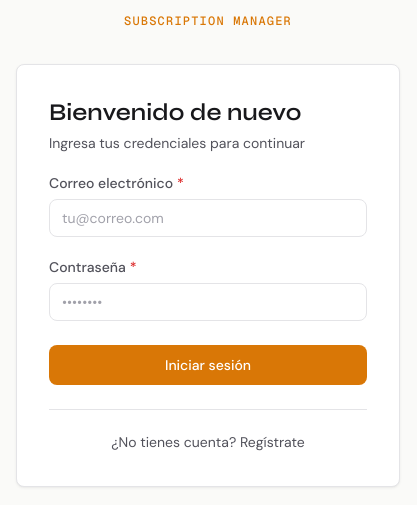
LoginPage › toggles to register mode
What coordinates should you click on to do the following:
click the button "¿No tienes cuenta? Regístrate"
I would click on:
 (208, 442)
Its box is [111,432,305,452].
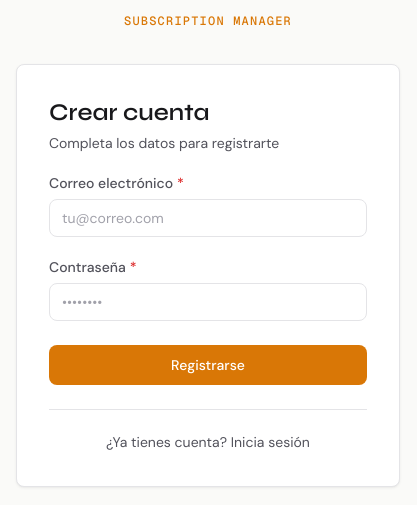
expect the heading "Crear cuenta" is shown: met, box [49,98,210,126]
